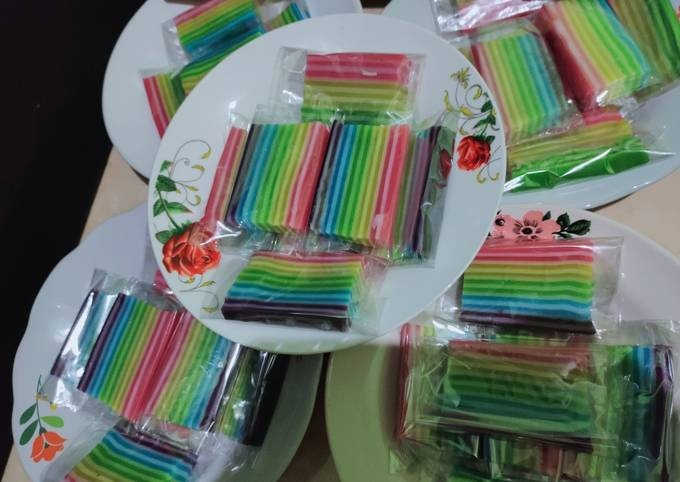kue_lapis_pelangi: (77, 291, 173, 419), (310, 121, 412, 237), (220, 250, 359, 333), (461, 240, 597, 323), (229, 120, 326, 233), (301, 48, 418, 126)
